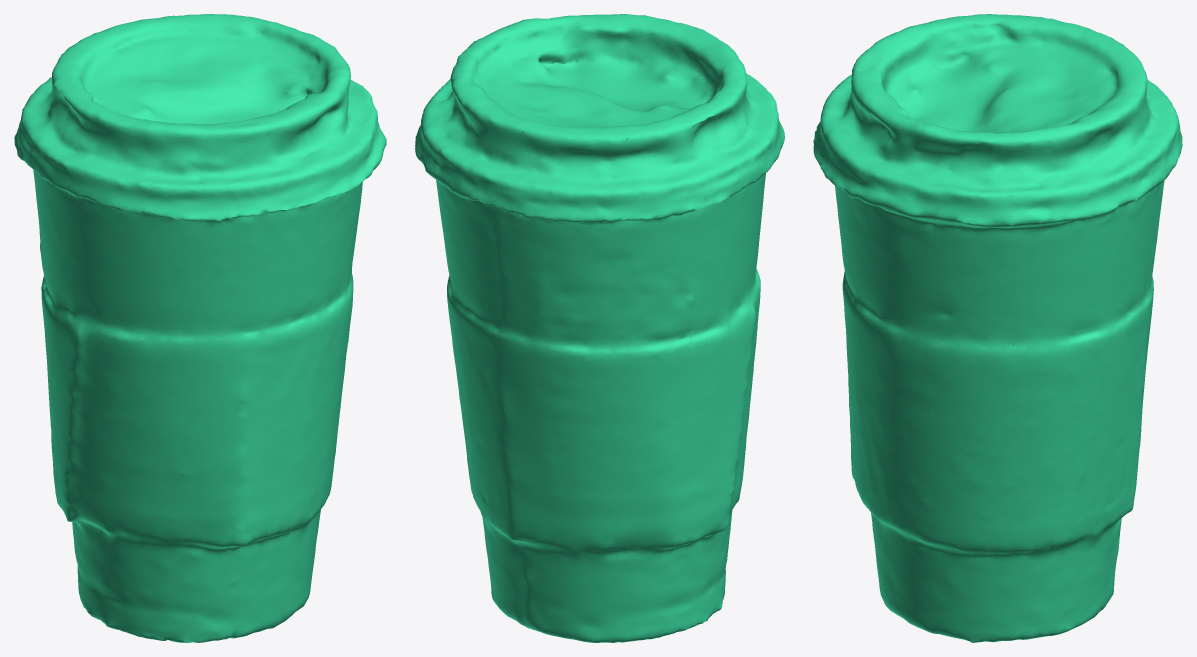
The picture shows the model from 3 angles, left to right: view 1: azimuth 30°, elevation 25°; view 2: azimuth 150°, elevation 25°; view 3: azimuth 270°, elevation 25°; orthographic projection.
Visible parts, largest first — view 1: Object_2; view 2: Object_2; view 3: Object_2.
Boxes of the visible parts, <box> form: Object_2: <box>14,14,386,642</box>; Object_2: <box>415,14,784,642</box>; Object_2: <box>813,14,1182,642</box>.
Size of the model in its own units: 0.638 by 1 by 0.6368.
